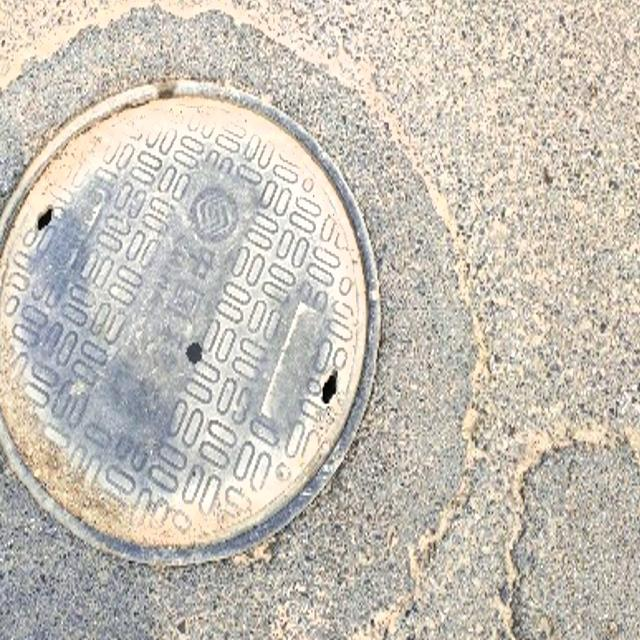good: (0, 89, 387, 579)
